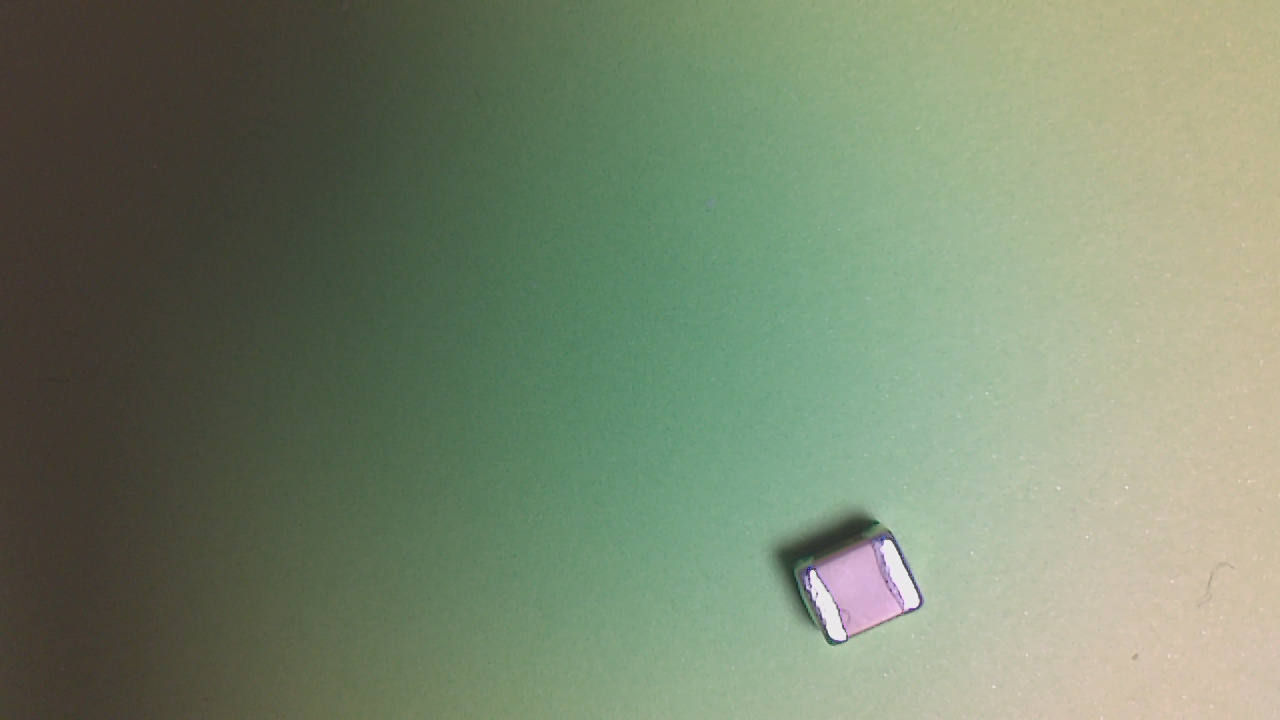Condensator: (796, 529, 935, 653)
